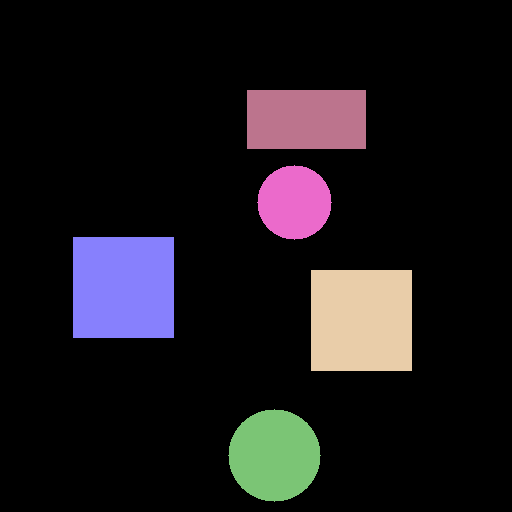circle: (228, 409, 320, 501), (257, 165, 331, 239)
rectangle: (247, 90, 365, 148)
square: (311, 270, 411, 370), (73, 237, 173, 337)
